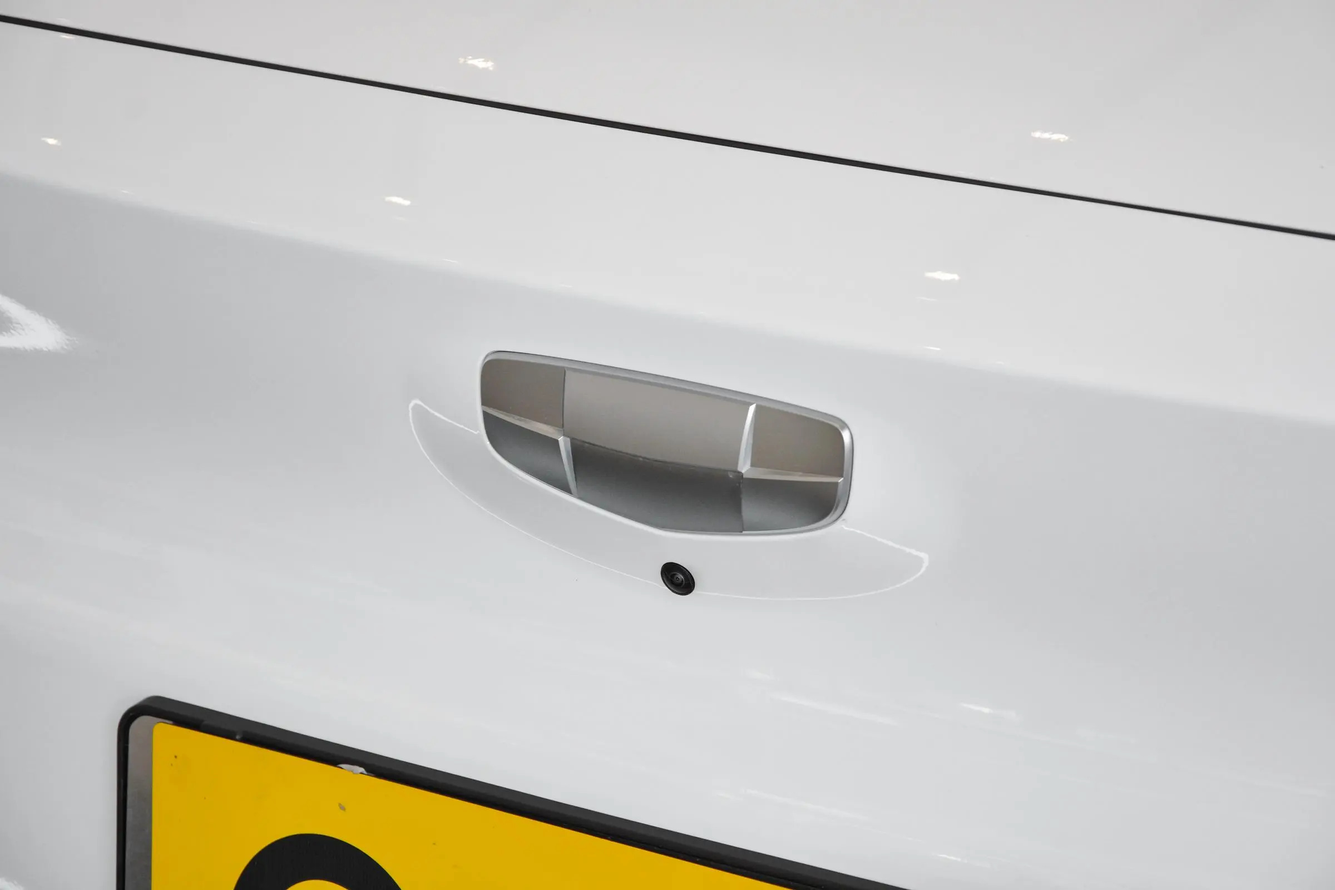GEOMETRY: (481, 352, 853, 532)
